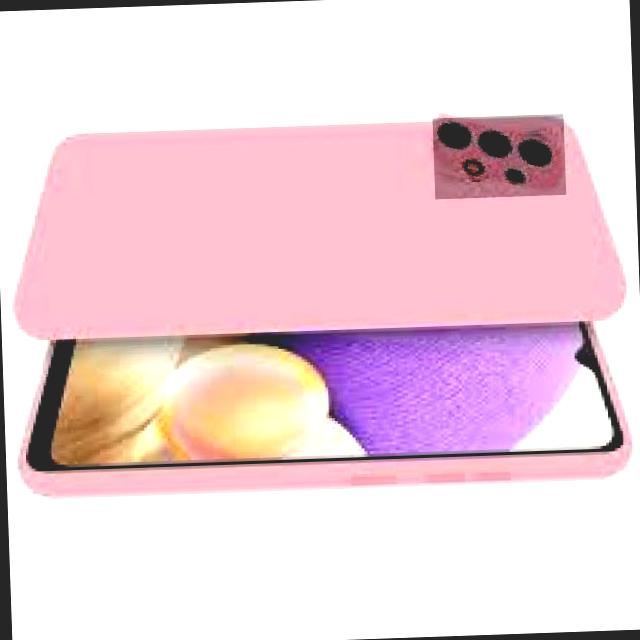lens_back: (431, 110, 473, 156), (470, 126, 521, 158), (516, 133, 561, 169)
phone: (0, 110, 625, 339), (9, 316, 634, 496)
